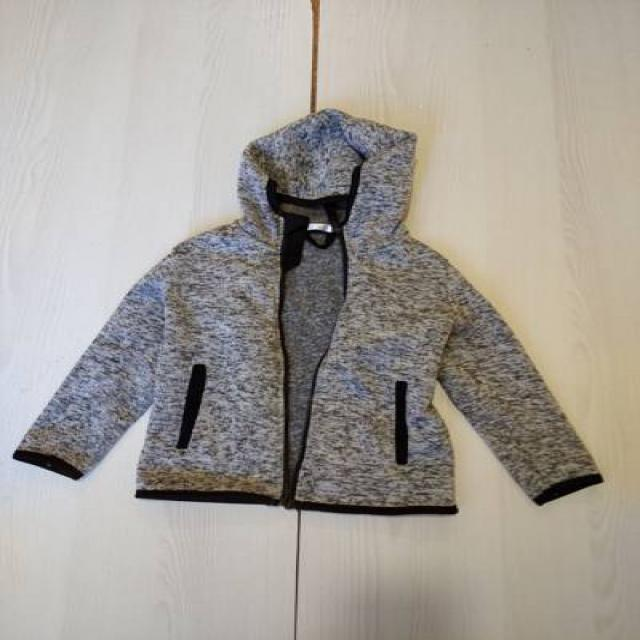Clothes -Biodegradable-: (17, 118, 603, 511)
